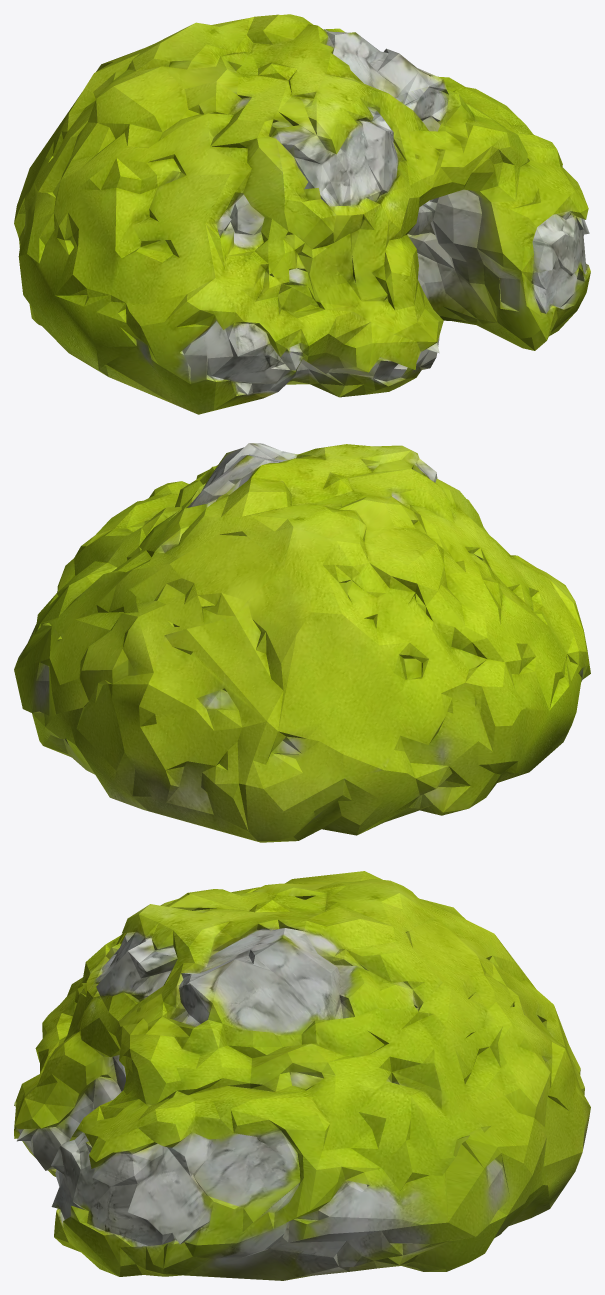
The model's file is boulder.glb.
3 views of the same model, one above another, from view 1: azimuth 30°, elevation 25°; view 2: azimuth 150°, elevation 25°; view 3: azimuth 270°, elevation 25° (orthographic). The views are drawn at different scales.
Parts seen in each view (by area): view 1: model; view 2: model; view 3: model.
Boxes of the visible parts, x1=… form: model: x1=14, y1=14, x2=590, y2=414; model: x1=14, y1=443, x2=590, y2=842; model: x1=14, y1=871, x2=590, y2=1280.
Bounding box in the file's own units: 1.88 × 1 × 1.89.
Materials: 1 (1 with a texture image).
